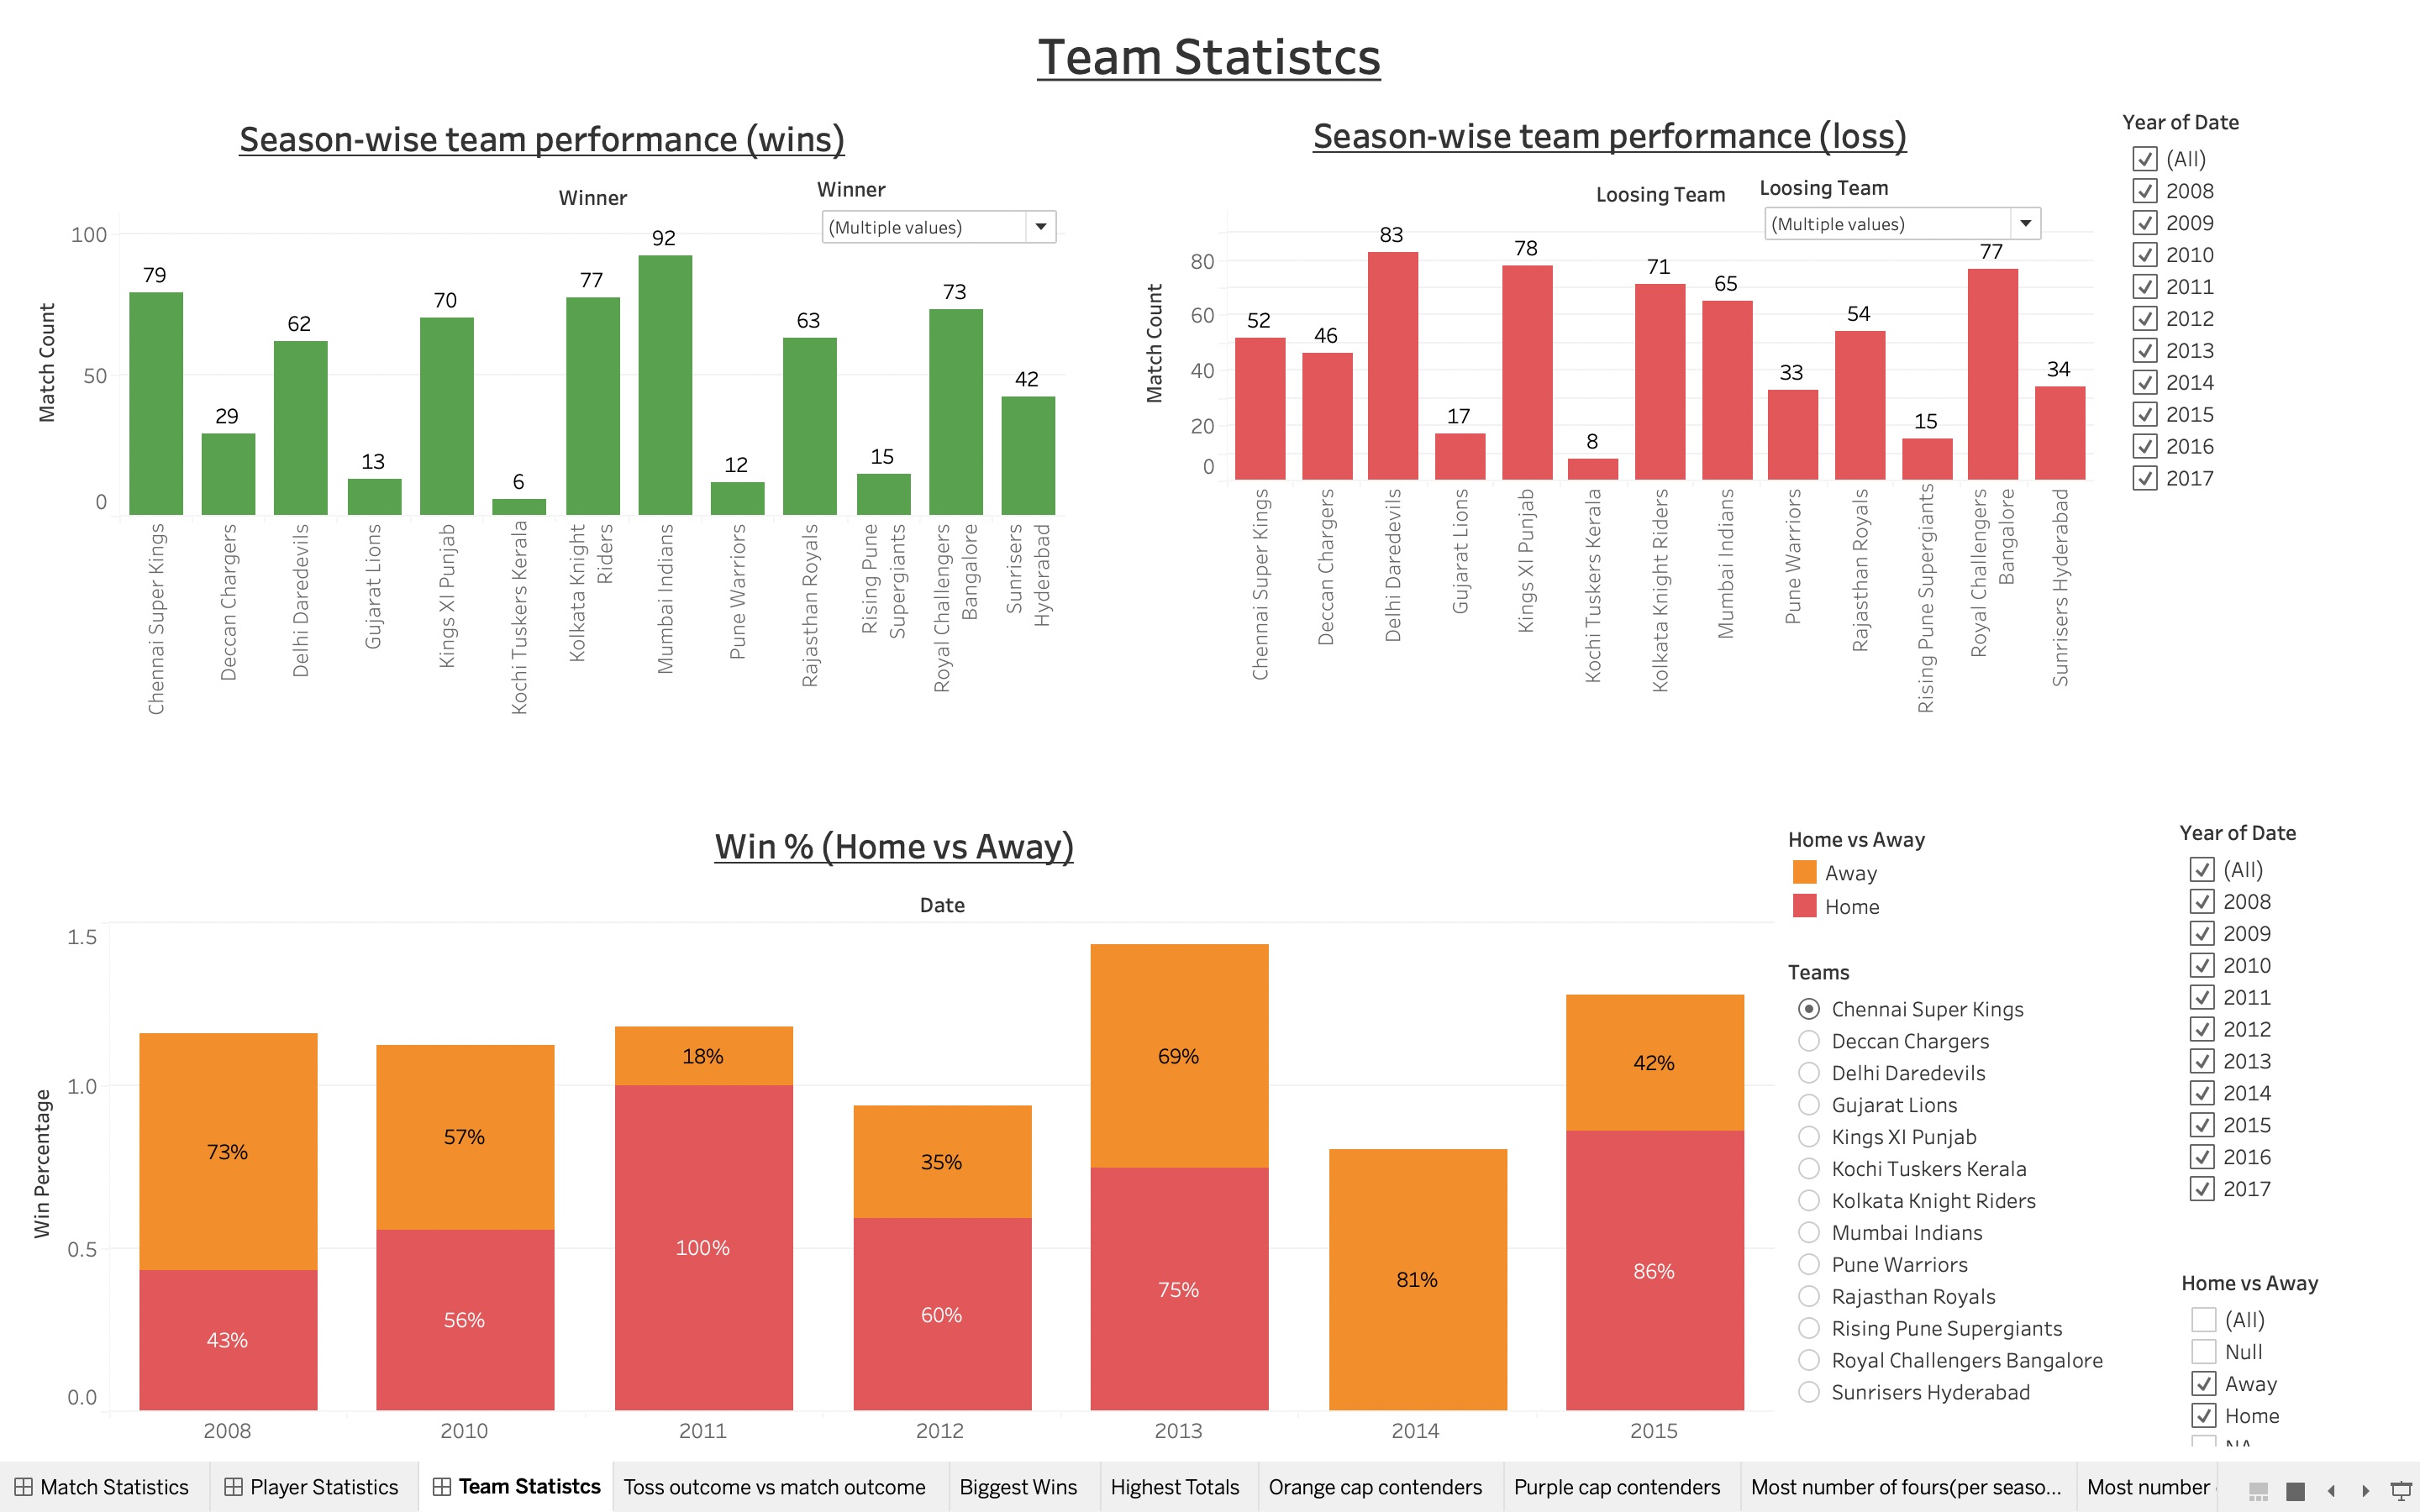

The dashboard page shown, as its layout file describes it:
{"tool":"tableau","page":{"name":"Team Statistcs","canvas":[1000,1000],"units":"permille","ordinal":2},"visuals":[{"type":"title","box":[5.7,9.9,988.7,59.4]},{"type":"worksheet","title":"Season-wise team performance (loss)","mark":"Automatic","rows":["id"],"cols":["Calculation_351491919490138112"],"box":[466.2,71.8,399.5,418.3]},{"type":"worksheet","title":"Season-wise team performance (wins)","mark":"Automatic","rows":["id"],"cols":["winner"],"box":[8.1,73,432.1,417.1]},{"type":"filter","title":"Season-wise team performance (wins)","param":"[federated.1izga6q03dv54312r5zsh167bm26].[yr:date:ok]","box":[877.1,73,112.3,294.6]},{"type":"filter","title":"Season-wise team performance (loss)","param":"[federated.1izga6q03dv54312r5zsh167bm26].[none:Calculation_351491919490138112:nk","box":[727.4,118.8,118.8,48.3]},{"type":"filter","title":"Season-wise team performance (wins)","param":"[federated.1izga6q03dv54312r5zsh167bm26].[none:winner:nk]","box":[337.7,120,101.7,53.2]},{"type":"worksheet","title":"Win % (Home vs Away)","mark":"Bar","rows":["Calculation_351491919500021763"],"cols":["date"],"box":[6.5,556.9,727.4,431.9]},{"type":"filter","title":"Win % (Home vs Away)","param":"[federated.1izga6q03dv54312r5zsh167bm26].[yr:date:ok]","box":[901,559.4,84.2,299.5]},{"type":"legend","title":"Win % (Home vs Away)","param":"[federated.1izga6q03dv54312r5zsh167bm26].[none:Calculation_351491919500296196:nk","box":[738.8,564.4,141.6,80.5]},{"type":"parameter","param":"[Parameters].[Parameter 1]","box":[738.8,654.7,158.7,335.4]},{"type":"filter","title":"Win % (Home vs Away)","param":"[federated.1izga6q03dv54312r5zsh167bm26].[none:Calculation_351491919500296196:nk","box":[901.7,867.6,87.7,122.5]}]}

Visuals, with their boxes on the dashboard's canvas, which has no fixed pixel size, in thousandths of its width and height (x1, y1, x2, y2). These are canvas units, not pixel positions in the 2420x1512 screenshot, which may show the page scaled, cropped or inside an application window:
title: select_region(6, 10, 994, 69)
"Season-wise team performance (loss)" worksheet: select_region(466, 72, 866, 490)
"Season-wise team performance (wins)" worksheet: select_region(8, 73, 440, 490)
"Season-wise team performance (wins)" filter: select_region(877, 73, 989, 368)
"Season-wise team performance (loss)" filter: select_region(727, 119, 846, 167)
"Season-wise team performance (wins)" filter: select_region(338, 120, 439, 173)
"Win % (Home vs Away)" worksheet (Bar marks): select_region(6, 557, 734, 989)
"Win % (Home vs Away)" filter: select_region(901, 559, 985, 859)
"Win % (Home vs Away)" legend: select_region(739, 564, 880, 645)
parameter: select_region(739, 655, 898, 990)
"Win % (Home vs Away)" filter: select_region(902, 868, 989, 990)
